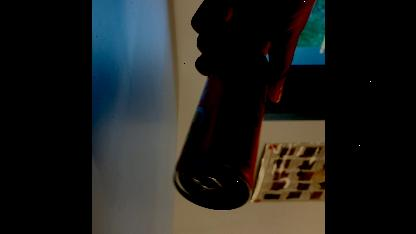Can: (172, 44, 268, 210)
